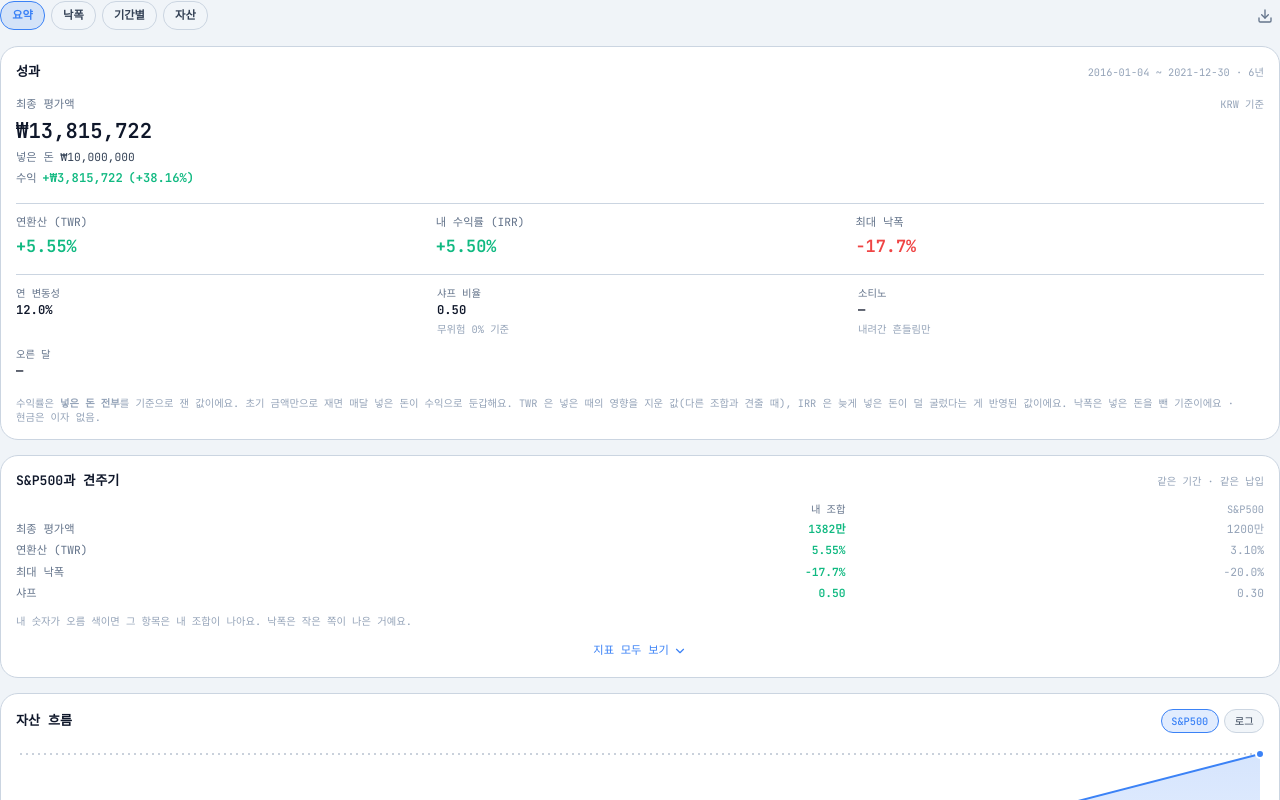
Test: 벤치마크가 있으면 해별로 나란히 보여 준다 › 몇 해 중 몇 해를 앞섰는지 센다
Click the tab "기간별" at (130, 16), box [102,1,157,30]
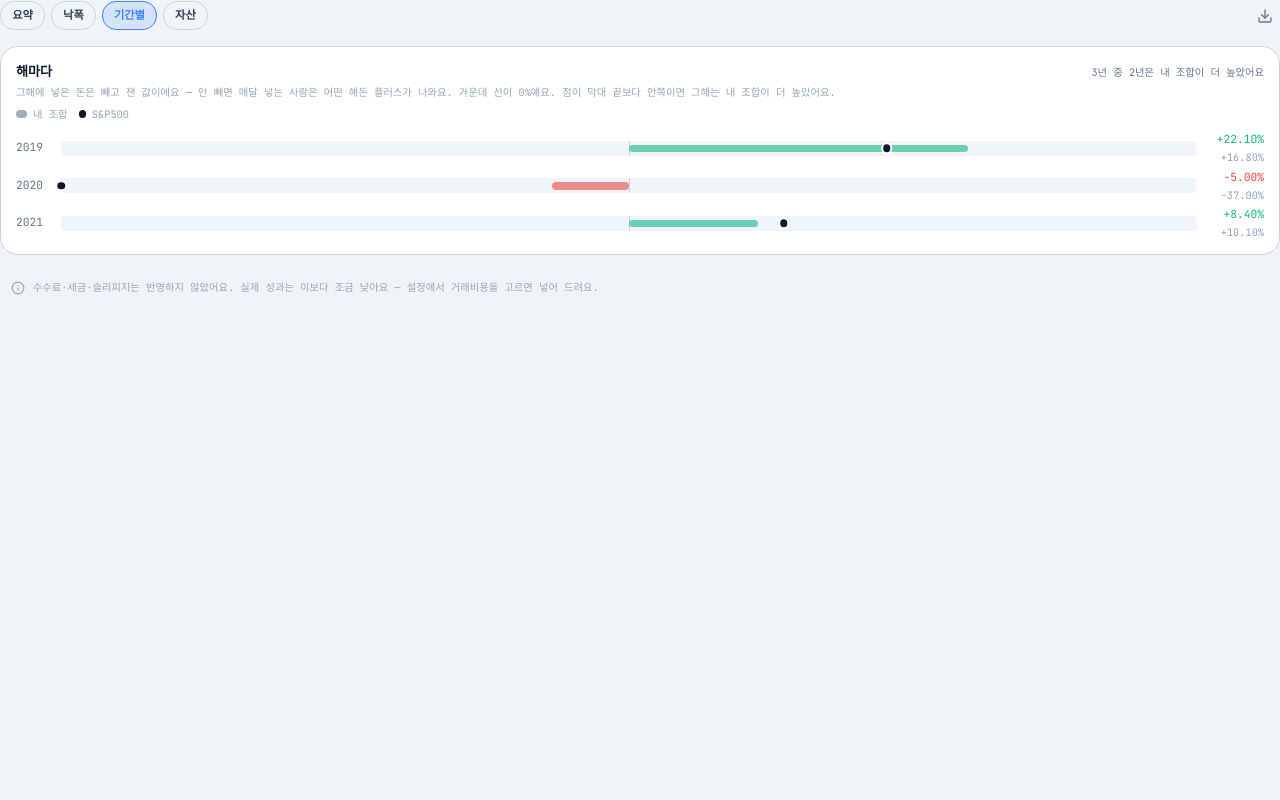
Now the text "3년 중 2년은 내 조합이 더 높았어요" is shown, box [1091,65,1264,79]
